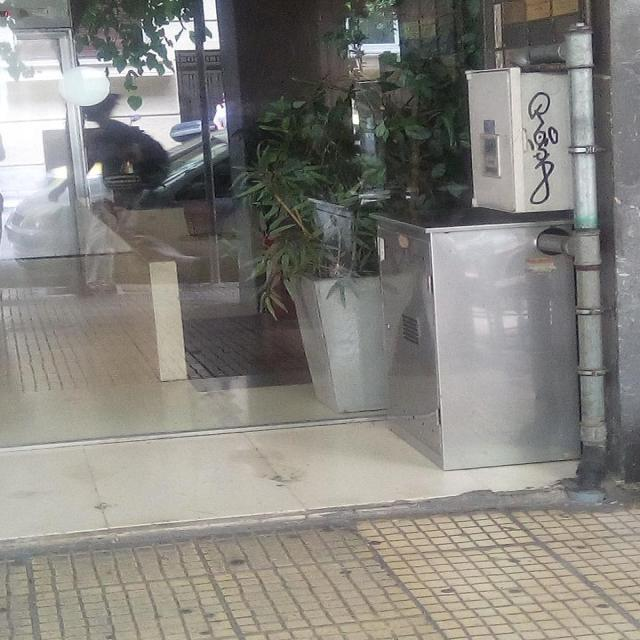nonspitting: (527, 92, 560, 205)
